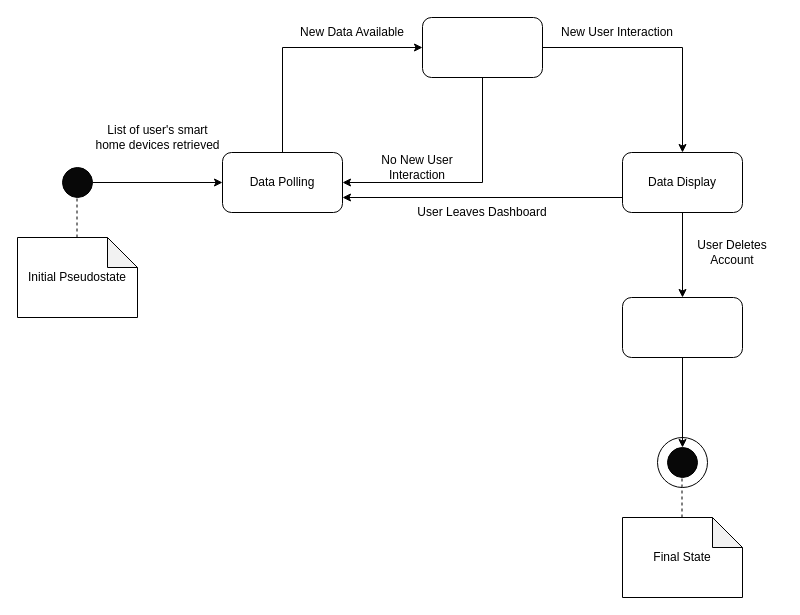
Image size: 800x615. Some labels were removed from this diagram. Each missing label, with the centre of its shape:
"Data Calculation" belongs at pixel 482 47.
"Data Deletion" belongs at pixel 682 327.
